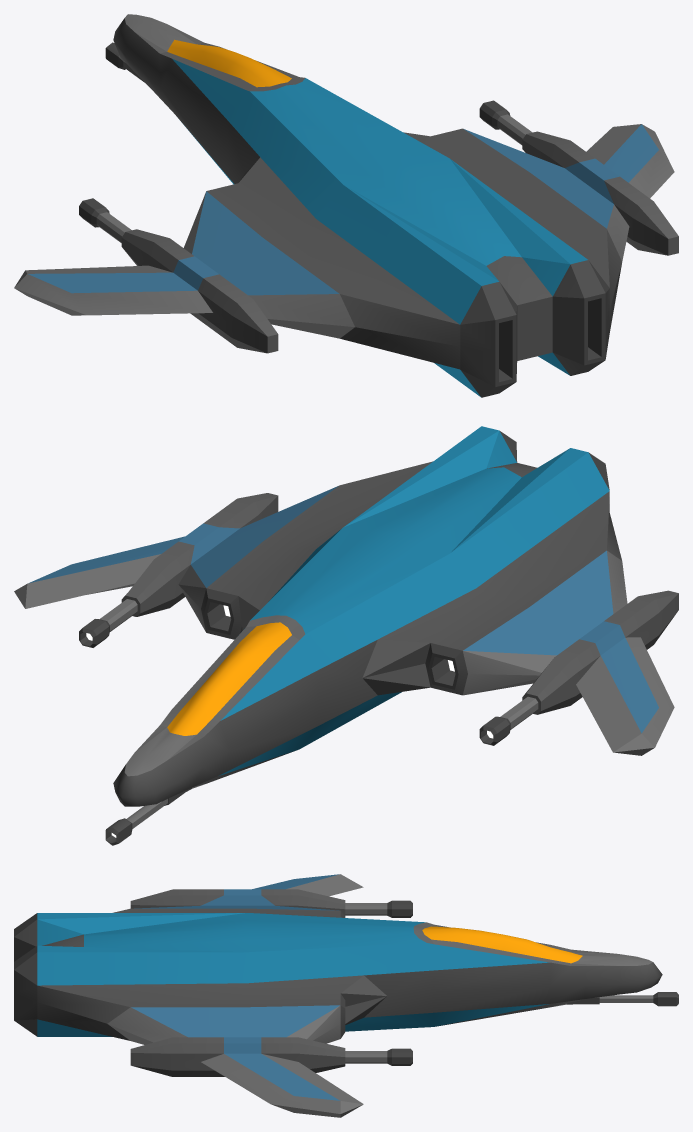
The model's file is B2-Sparrowhawk-Ship-v01.glb.
3 views of the same model, one above another, from view 1: azimuth 30°, elevation 25°; view 2: azimuth 150°, elevation 25°; view 3: azimuth 270°, elevation 25° (orthographic). The views are drawn at different scales.
Visible parts, largest first — view 1: Ship; view 2: Ship; view 3: Ship.
Part boxes in pixels (left/top/right/bottom): Ship: left=14, top=14, right=678, bottom=397; Ship: left=14, top=426, right=678, bottom=845; Ship: left=14, top=874, right=678, bottom=1117.
Size of the model in its own units: 24 by 4.4 by 28.5.
